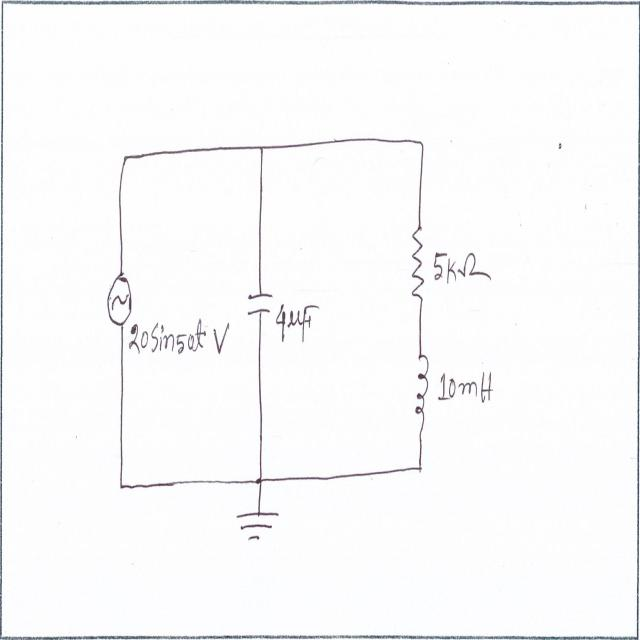ac_current: (104, 275, 134, 327)
capacitor: (242, 289, 273, 322)
ground: (234, 502, 284, 550)
inductor: (410, 355, 430, 438)
resistor: (409, 225, 427, 307)
